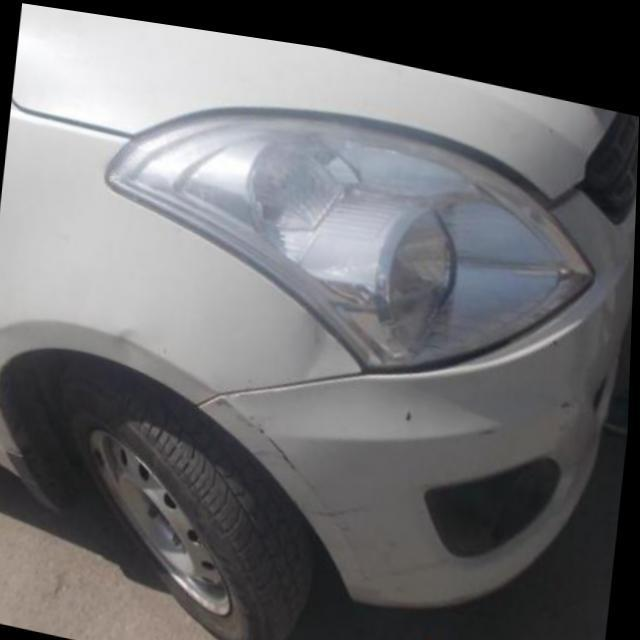scratch: (241, 402, 371, 517), (404, 372, 516, 422), (116, 311, 151, 367), (557, 368, 583, 413)
